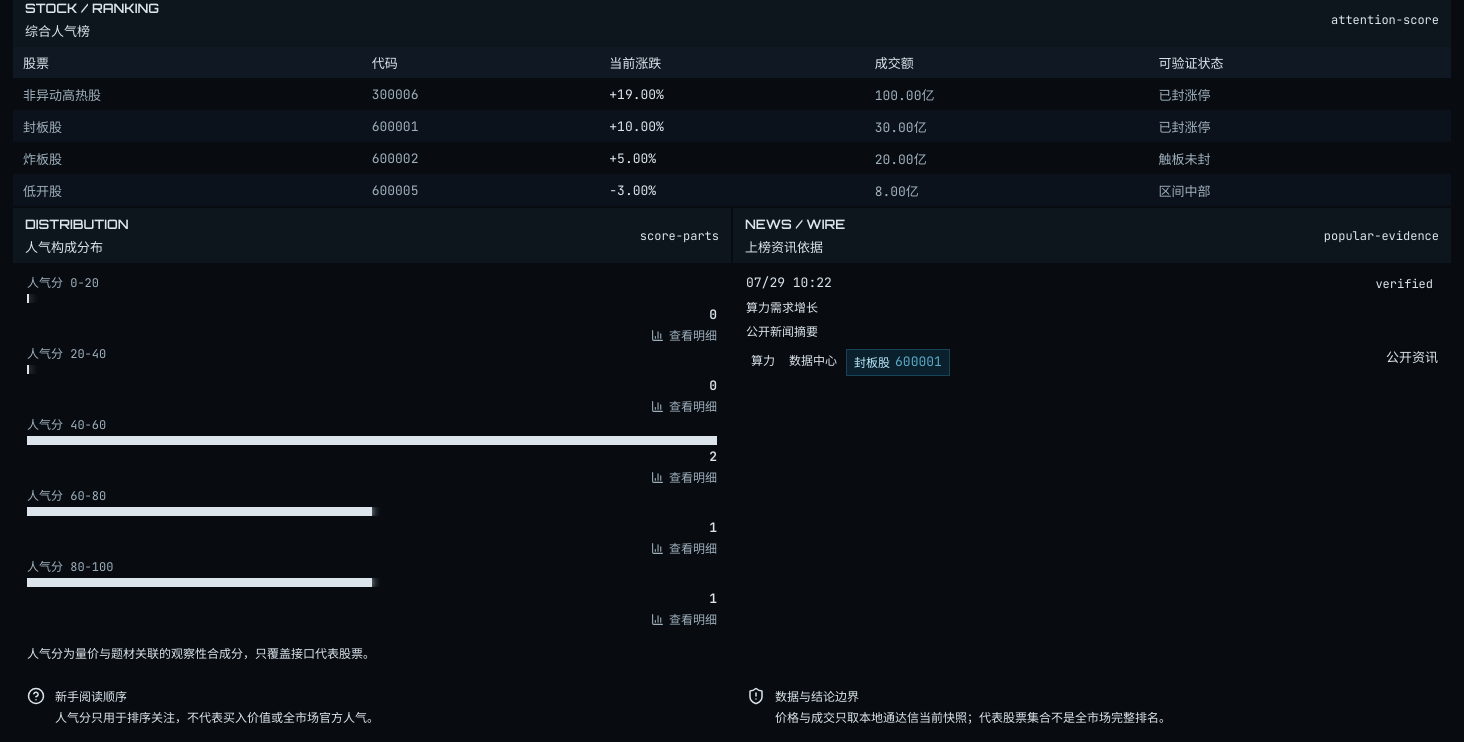
Test: DistinctMarketWorkspace › drills representative-stock distribution bins into their exact named members
(page scrolled)
Click the button with aria-label "筛选：人气分 80-100 1" at (70, 567), box left=27, top=557, right=717, bottom=628
(page scrolled)
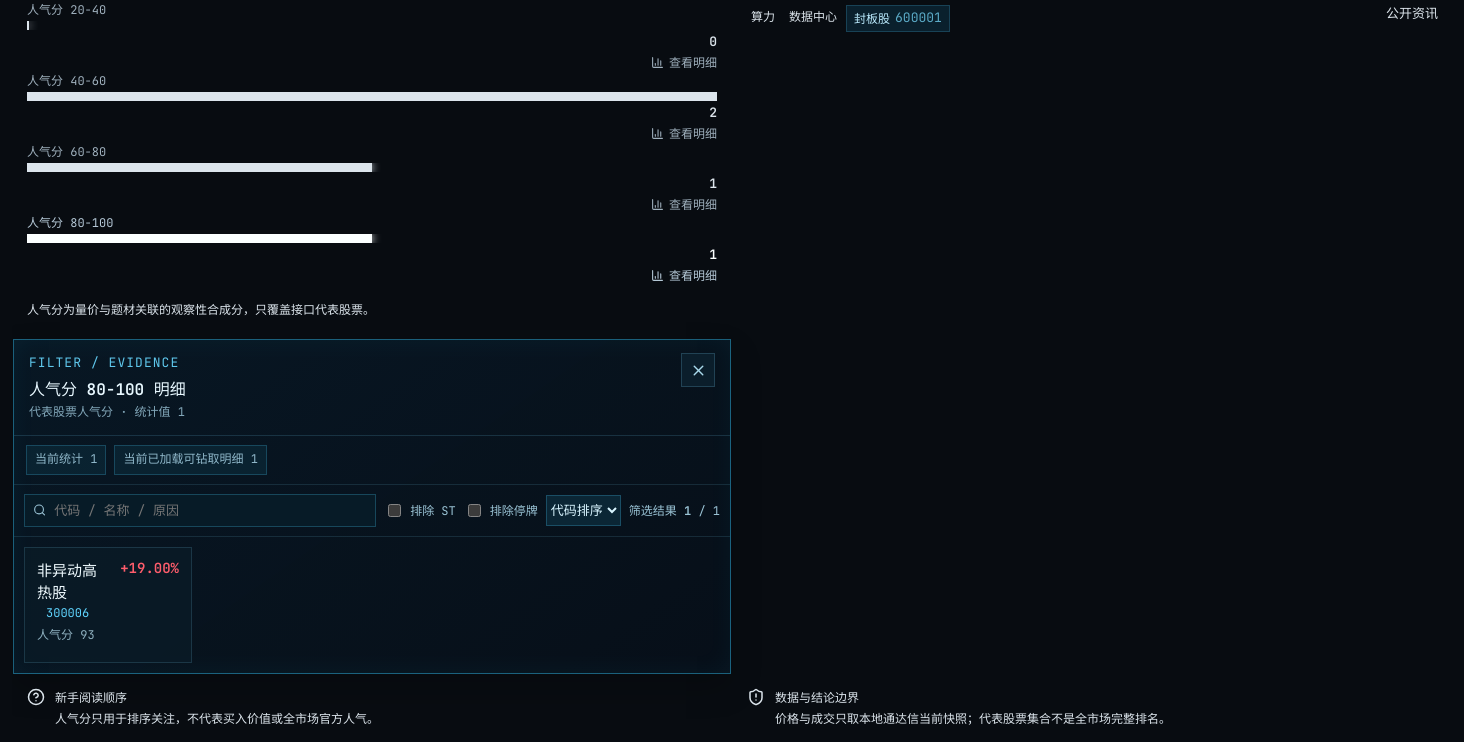
Expected: the element "人气分 80-100 明细" does not show "低开股", left=13, top=339, right=731, bottom=674
Result: the element "人气分 80-100 明细" shows "非异动高热股" at left=37, top=560, right=97, bottom=602
